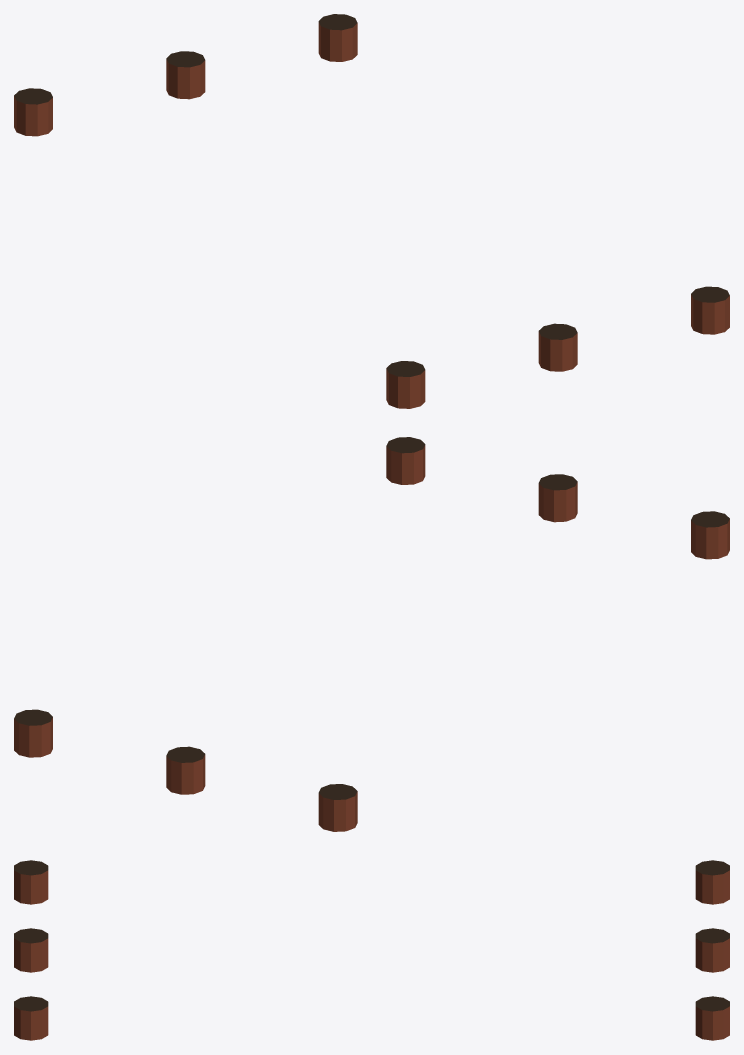
The model's file is 1235-Buildings-shell-pieces-roof-terrace-emitTerrace-180-triangles-5-56-x-0-50-x-11-1.glb.
The picture shows the model from 3 angles, top to bottom: view 1: azimuth 30°, elevation 25°; view 2: azimuth 150°, elevation 25°; view 3: azimuth 270°, elevation 25°; orthographic projection. The views are drawn at different scales.
Visible parts, largest first — view 1: emitTerrace; view 2: emitTerrace; view 3: emitTerrace.
Part boxes in pixels (bbox=[...]): emitTerrace: bbox=[14, 14, 729, 408]; emitTerrace: bbox=[14, 437, 729, 831]; emitTerrace: bbox=[14, 860, 729, 1040].
Bounding box in the file's own units: 5.56 × 0.5 × 11.13.
